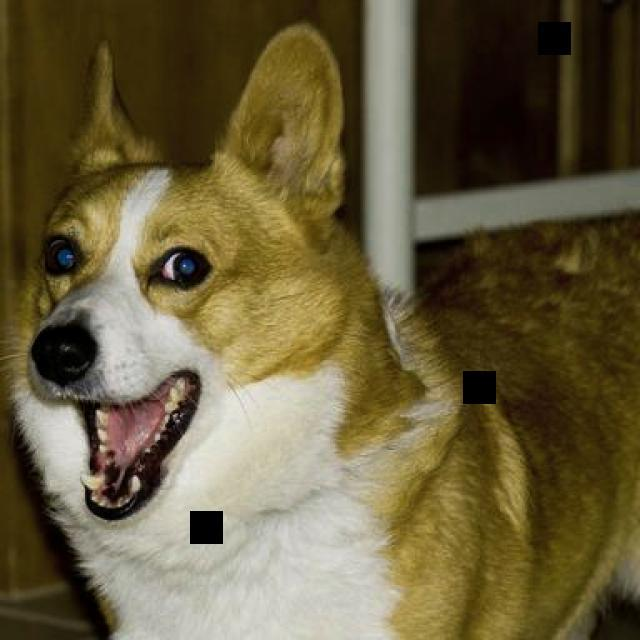adult_dog: (11, 27, 640, 632)
